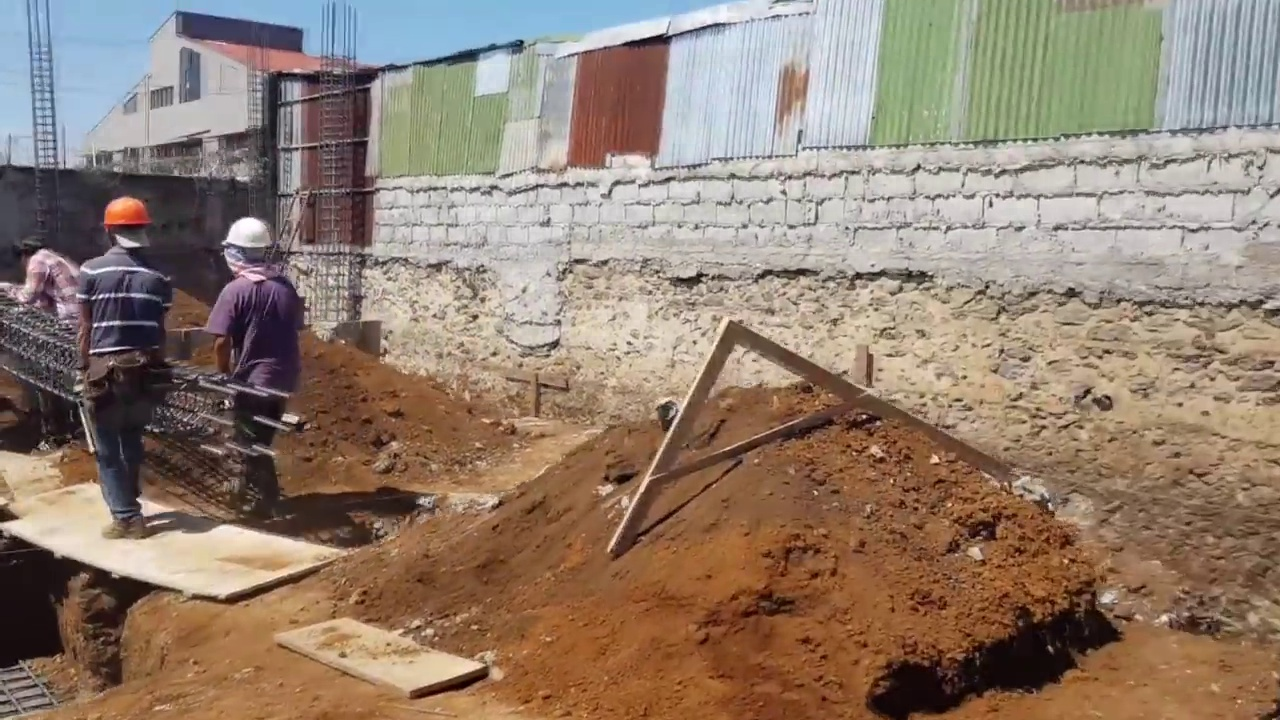helmet: (94, 197, 148, 232), (218, 220, 268, 257)
helmet-off: (11, 223, 51, 271)
helmet-on: (220, 217, 280, 284), (95, 194, 154, 259)
person: (74, 185, 176, 547), (202, 217, 305, 513), (7, 224, 82, 448)
